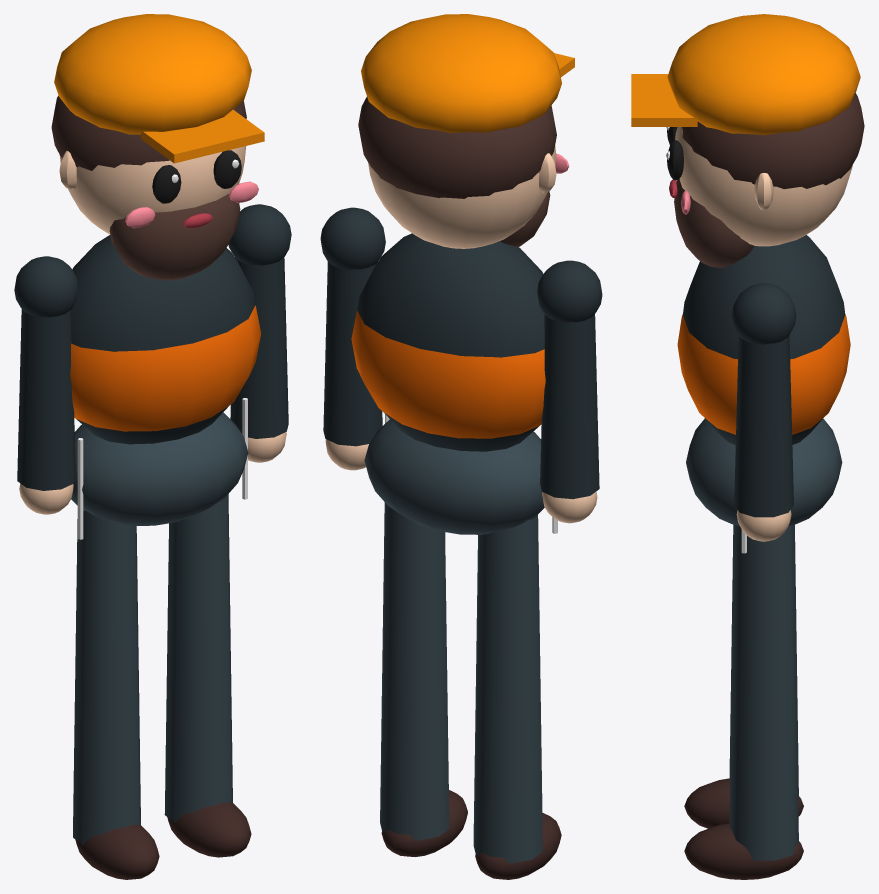
File: community_volunteer.glb
The picture shows the model from 3 angles, left to right: view 1: azimuth 30°, elevation 25°; view 2: azimuth 150°, elevation 25°; view 3: azimuth 270°, elevation 25°; orthographic projection.
Parts seen in each view (by area): view 1: Body.001, Leg_R.001, Leg_L.001, Arm_R.001, Arm_L.001; view 2: Body.001, Leg_R.001, Leg_L.001, Arm_R.001, Arm_L.001; view 3: Body.001, Leg_L.001, Arm_L.001, Leg_R.001.
Boxes of the visible parts, left/top/right/bottom form: Body.001: left=51, top=14, right=264, bottom=539; Leg_R.001: left=73, top=510, right=159, bottom=879; Leg_L.001: left=164, top=494, right=251, bottom=857; Arm_R.001: left=14, top=256, right=78, bottom=514; Arm_L.001: left=228, top=204, right=291, bottom=462; Body.001: left=351, top=14, right=574, bottom=534; Leg_R.001: left=473, top=515, right=561, bottom=879; Leg_L.001: left=380, top=502, right=467, bottom=856; Arm_R.001: left=537, top=260, right=602, bottom=523; Arm_L.001: left=320, top=207, right=385, bottom=470; Body.001: left=631, top=14, right=864, bottom=553; Leg_L.001: left=684, top=524, right=803, bottom=879; Arm_L.001: left=731, top=283, right=796, bottom=541; Leg_R.001: left=684, top=524, right=803, bottom=828.
Size of the model in its own units: 0.6228 by 1.82 by 0.4674.
